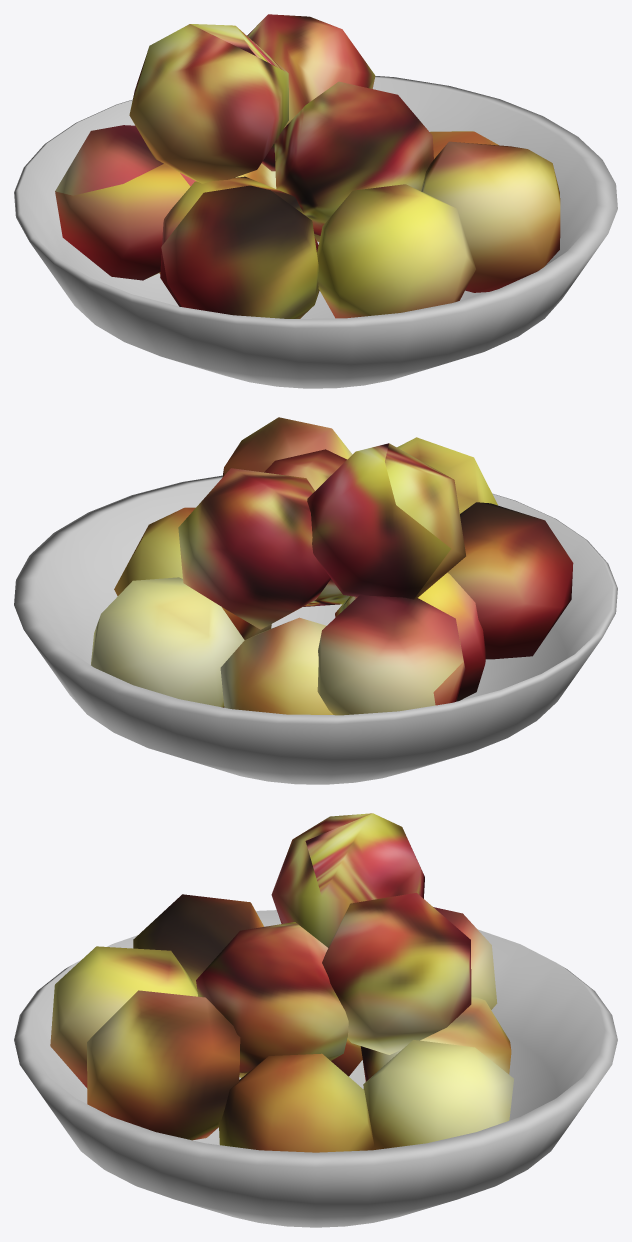
The model's file is AppleBowl.fbx.
The picture shows the model from 3 angles, top to bottom: view 1: azimuth 30°, elevation 25°; view 2: azimuth 150°, elevation 25°; view 3: azimuth 270°, elevation 25°; orthographic projection.
Parts seen in each view (by area): view 1: Cube.027, Circle; view 2: Cube.027, Circle; view 3: Cube.027, Circle.
Boxes of the visible parts, box(x1,y1,x2,y2) form: Cube.027: box(55, 14, 560, 318); Circle: box(14, 76, 617, 388); Cube.027: box(91, 417, 573, 715); Circle: box(14, 475, 617, 784); Cube.027: box(50, 813, 513, 1152); Circle: box(14, 910, 617, 1227).
Size of the model in its own units: 1013 by 562 by 1013.
